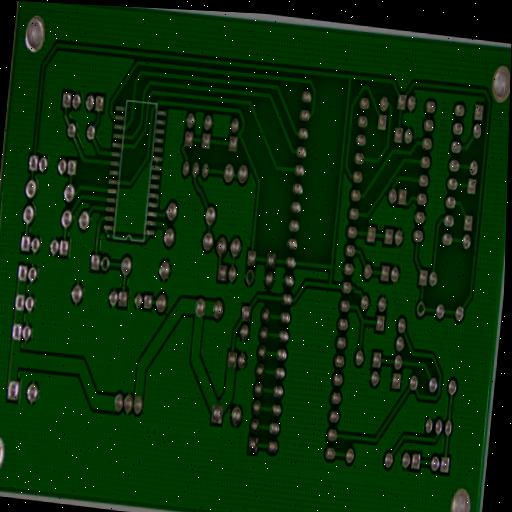missing_hole: (413, 299, 426, 322), (244, 269, 255, 291), (100, 255, 111, 276)
